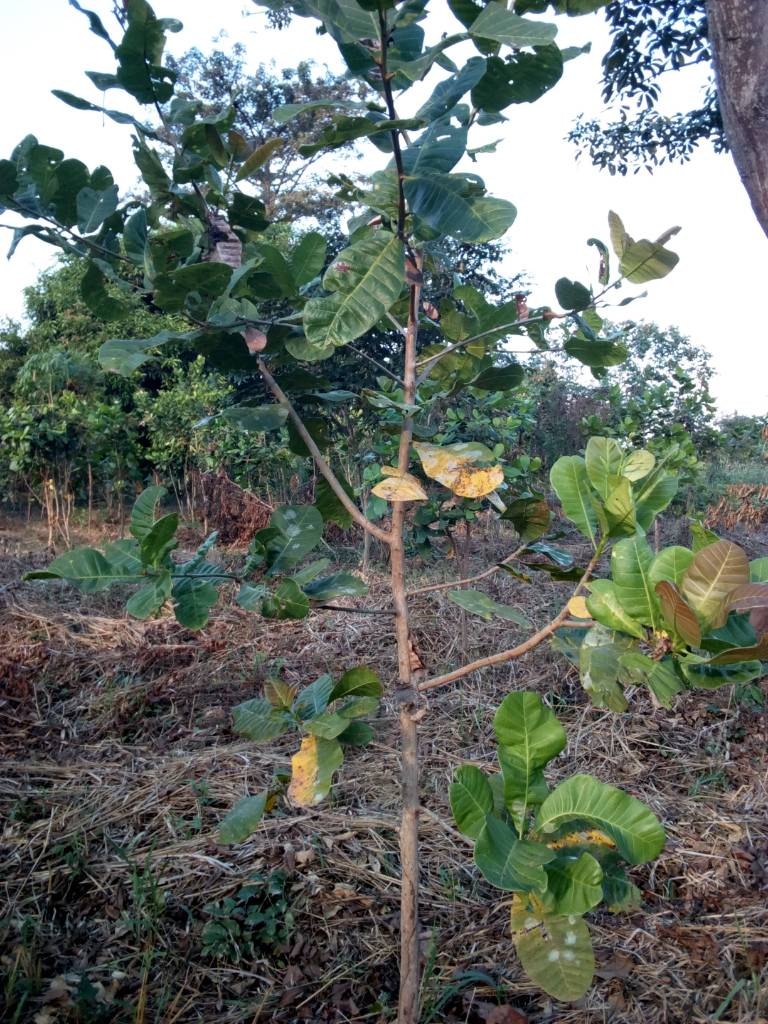Helopeltis anacardii: (302, 230, 405, 353), (547, 775, 647, 863), (404, 167, 516, 244), (497, 688, 561, 808), (25, 547, 138, 588), (260, 503, 321, 575)
